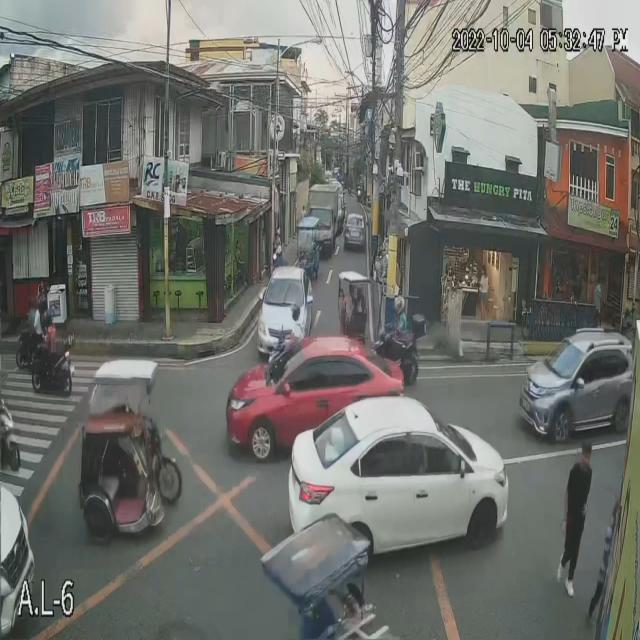Full-Faced: (387, 291, 404, 322), (40, 309, 56, 333), (37, 290, 47, 310)
Half-Faced: (290, 305, 299, 326)
